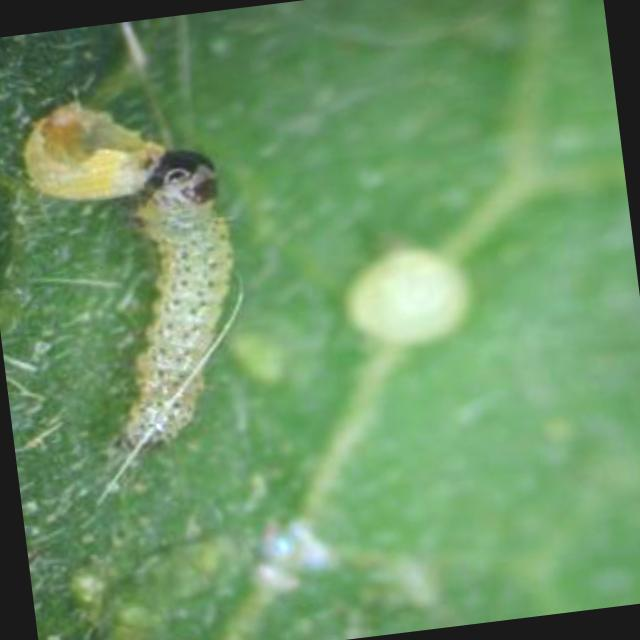Cotton bollworm: (74, 126, 294, 469)
